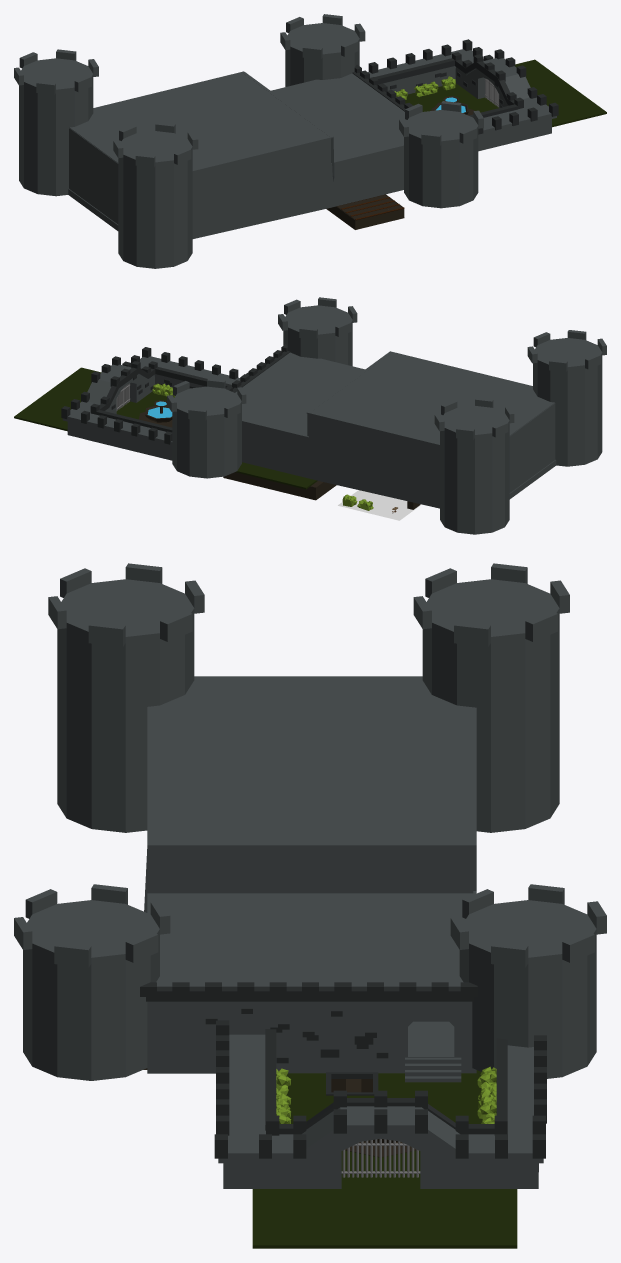
File: AgondrayAssets.fbx
3 renders of one model, top to bottom at view 1: azimuth 30°, elevation 25°; view 2: azimuth 150°, elevation 25°; view 3: azimuth 270°, elevation 25°, orthographic. The views are drawn at different scales.
Visible parts, largest first — view 1: Castle, Walls, Cube, dungeon_Ceiling, Bushes, dungeon_LogCeiling; view 2: Castle, Walls, Cube, Plane, basement_Walls, Fountain; view 3: Castle, Walls, Cube, Gate, Bushes.
Part boxes in pixels (<box>): Castle: <box>14,14,483,268</box>; Walls: <box>368,39,558,151</box>; Cube: <box>405,59,606,127</box>; dungeon_Ceiling: <box>336,195,401,220</box>; Bushes: <box>394,76,455,99</box>; dungeon_LogCeiling: <box>339,194,404,220</box>; Castle: <box>167,297,606,534</box>; Walls: <box>61,347,248,460</box>; Cube: <box>14,367,317,489</box>; Plane: <box>338,490,421,520</box>; basement_Walls: <box>223,472,336,499</box>; Fountain: <box>139,400,172,427</box>; Castle: <box>14,563,606,1082</box>; Walls: <box>214,1020,546,1188</box>; Cube: <box>252,1070,517,1248</box>; Gate: <box>341,1139,420,1177</box>; Bushes: <box>276,1066,496,1123</box>.
Bounding box in the file's own units: 41101 × 11847 × 21962.
